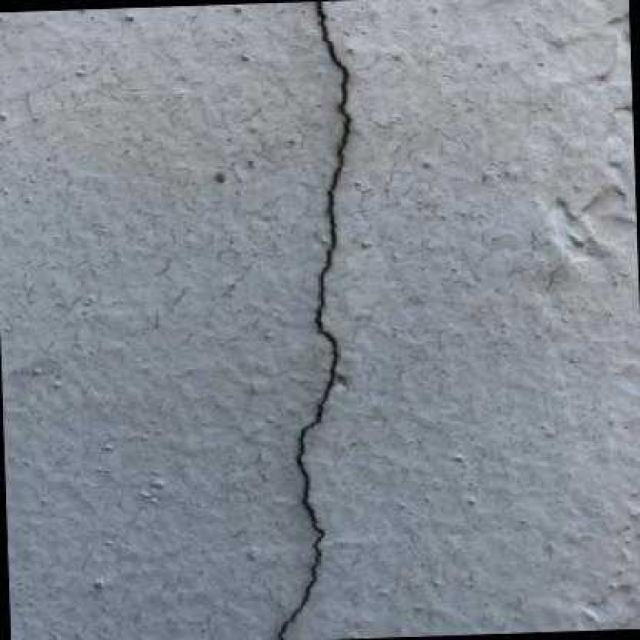D00: (275, 0, 353, 640)
